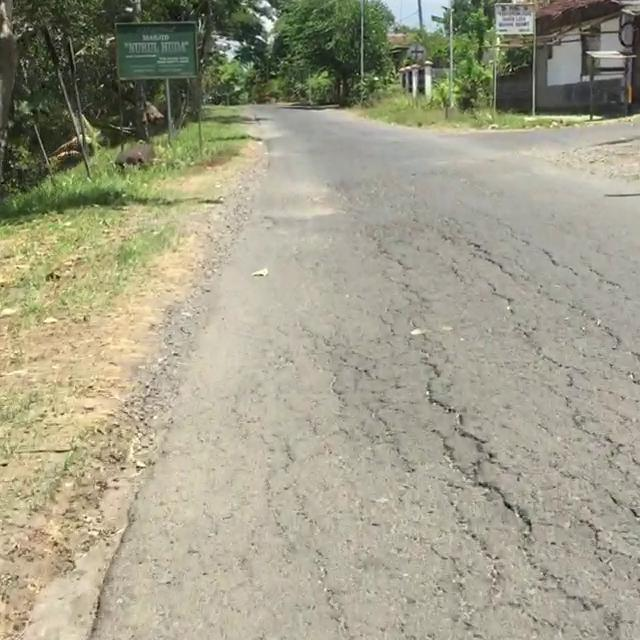retak_kulit_buaya: (372, 302, 640, 640), (361, 230, 629, 389)
